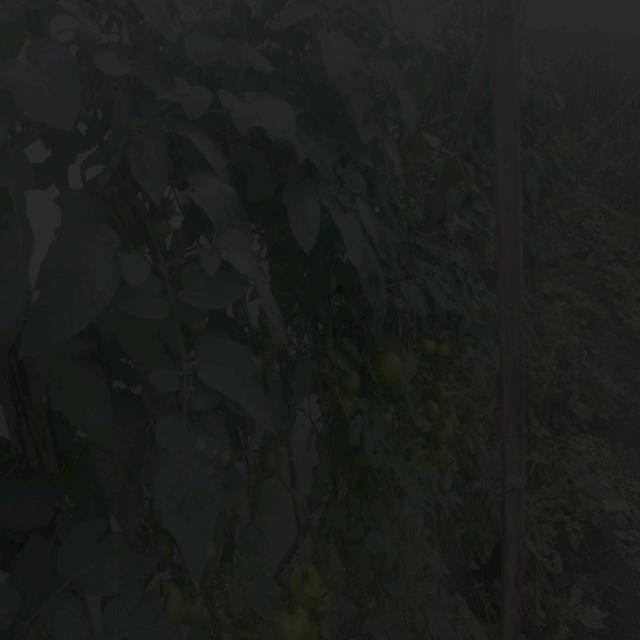tomato: (299, 565, 331, 608), (379, 349, 409, 393), (281, 614, 311, 640), (155, 582, 184, 606), (421, 330, 443, 357), (257, 321, 281, 341), (423, 396, 443, 418), (344, 373, 368, 391), (437, 417, 454, 440), (343, 398, 359, 420), (434, 439, 449, 462), (261, 448, 279, 459)
